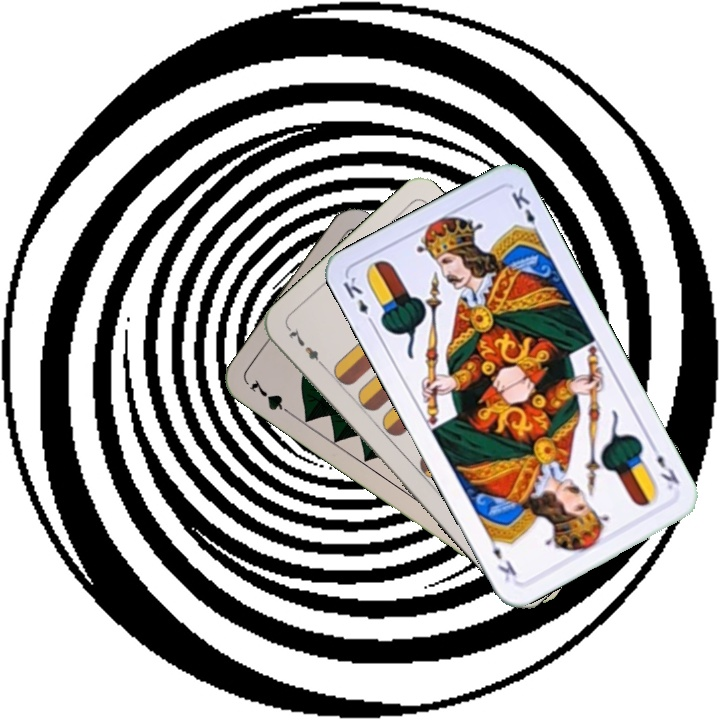E7: (284, 323, 329, 371)
EK: (339, 273, 378, 329), (646, 440, 682, 493)
G7: (245, 374, 297, 419)
